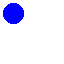circle: (3, 3, 23, 23)
